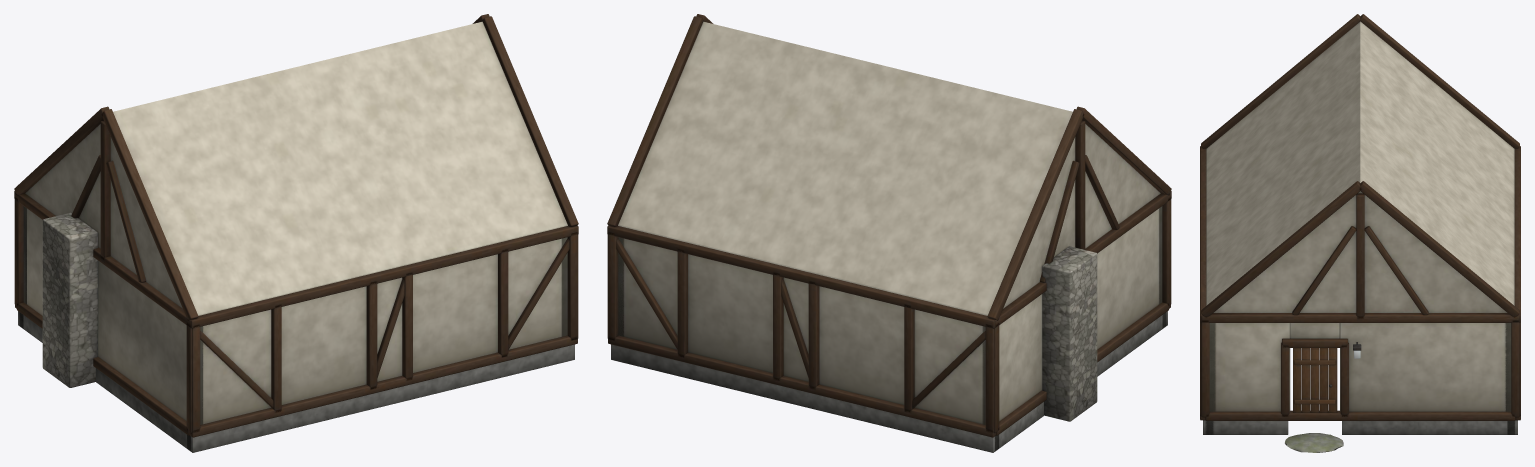
File: home_ext_shell.glb
3 views of the same model, side by side, from view 1: azimuth 30°, elevation 25°; view 2: azimuth 150°, elevation 25°; view 3: azimuth 270°, elevation 25° (orthographic). The views are drawn at different scales.
Parts seen in each view (by area): view 1: home_ext_shell; view 2: home_ext_shell; view 3: home_ext_shell.
Boxes of the visible parts, left/top/right/bottom form: home_ext_shell: left=14, top=14, right=578, bottom=452; home_ext_shell: left=607, top=14, right=1171, bottom=452; home_ext_shell: left=1200, top=14, right=1520, bottom=452.
Size of the model in its own units: 11.39 by 6.78 by 7.76.
Materials: 1 (1 with a texture image).
